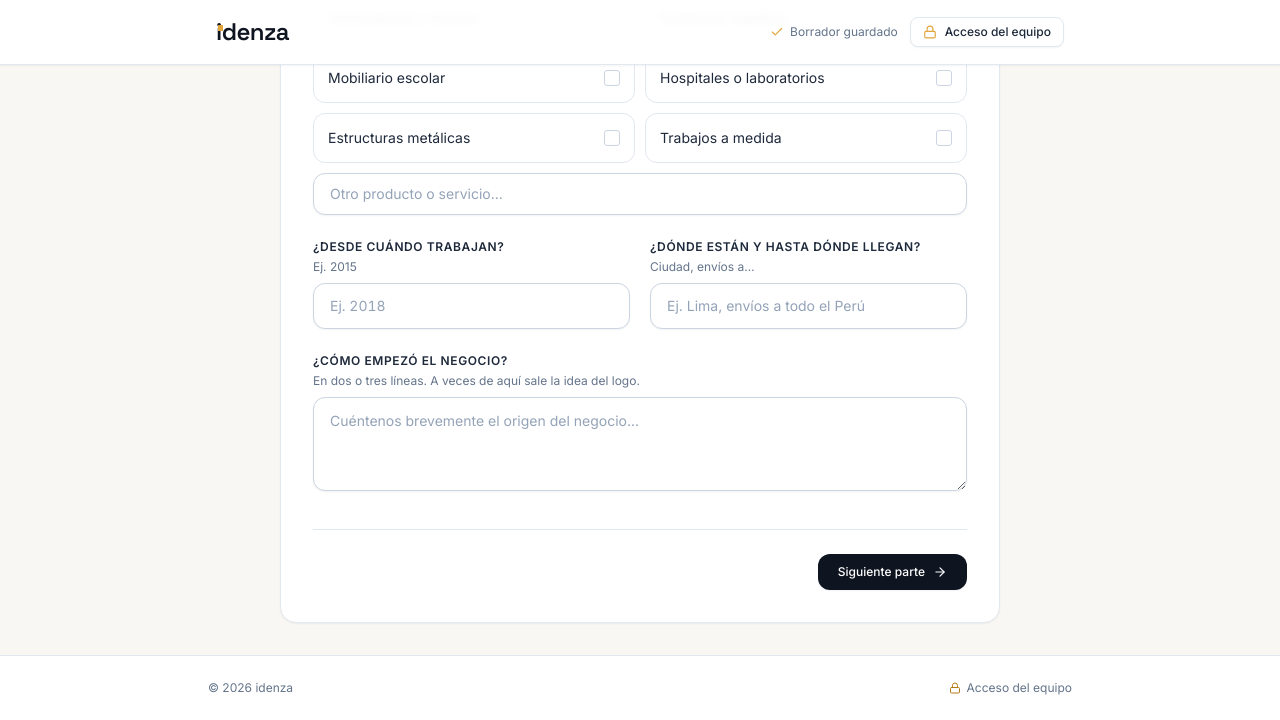
Test: App wizard flow and navigation › navigates from Step 1 to Step 2 and back
(page scrolled)
# Click next
Click the button "Siguiente parte".
click(892, 572)  # box [818,554,967,590]
(page scrolled)
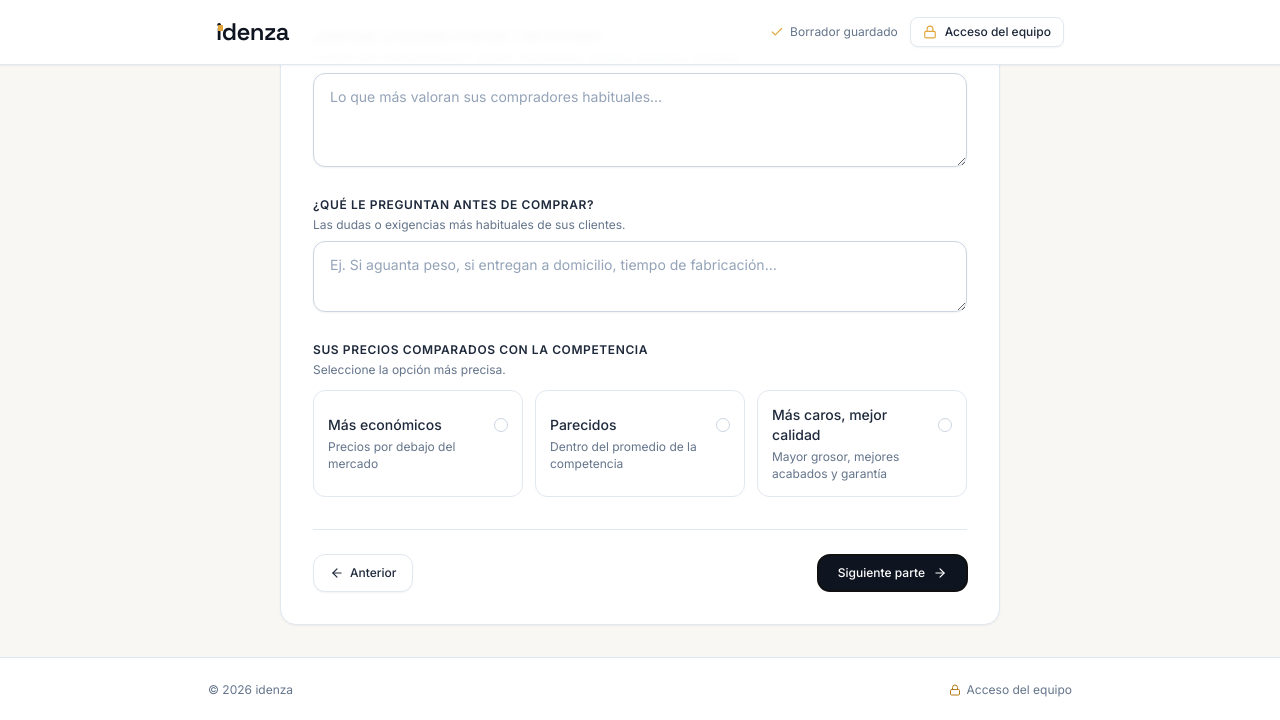
expect the button "Anterior" is shown: met
# Click prev
Click the button "Anterior".
click(363, 573)  # box [313,554,413,592]
(page scrolled)
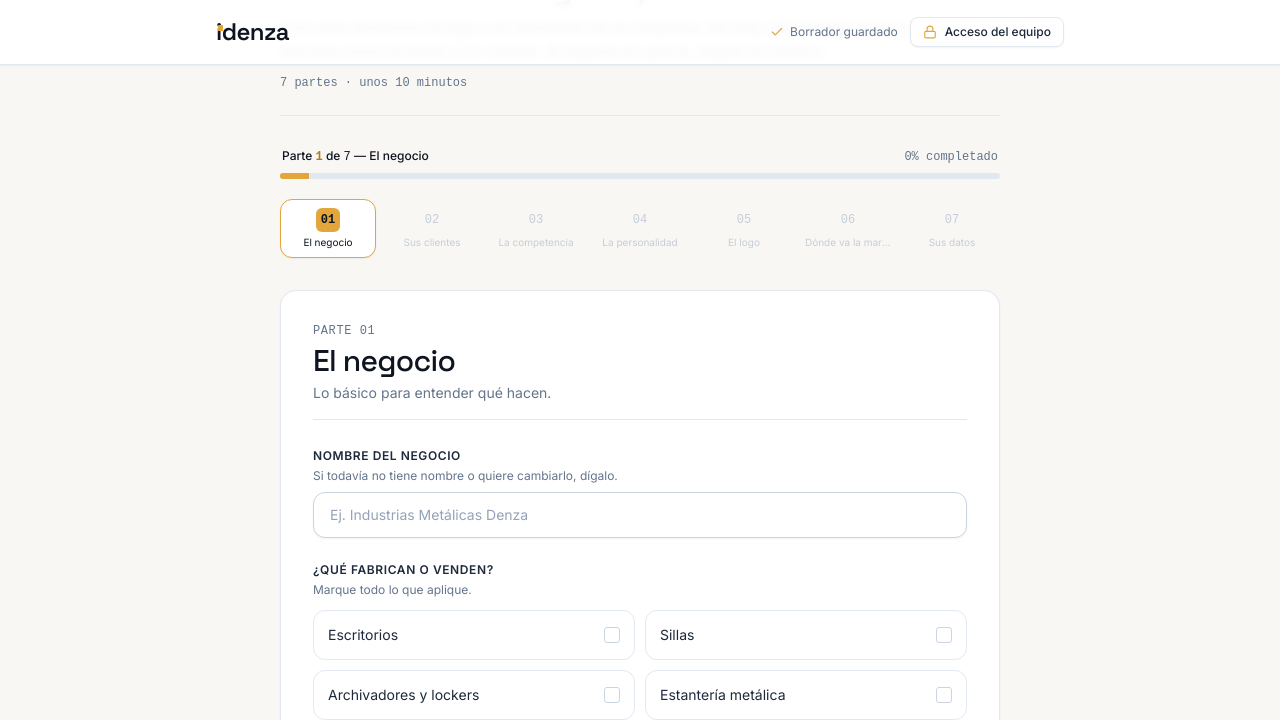
expect the heading "El negocio" is shown: met, box [313,340,455,380]
